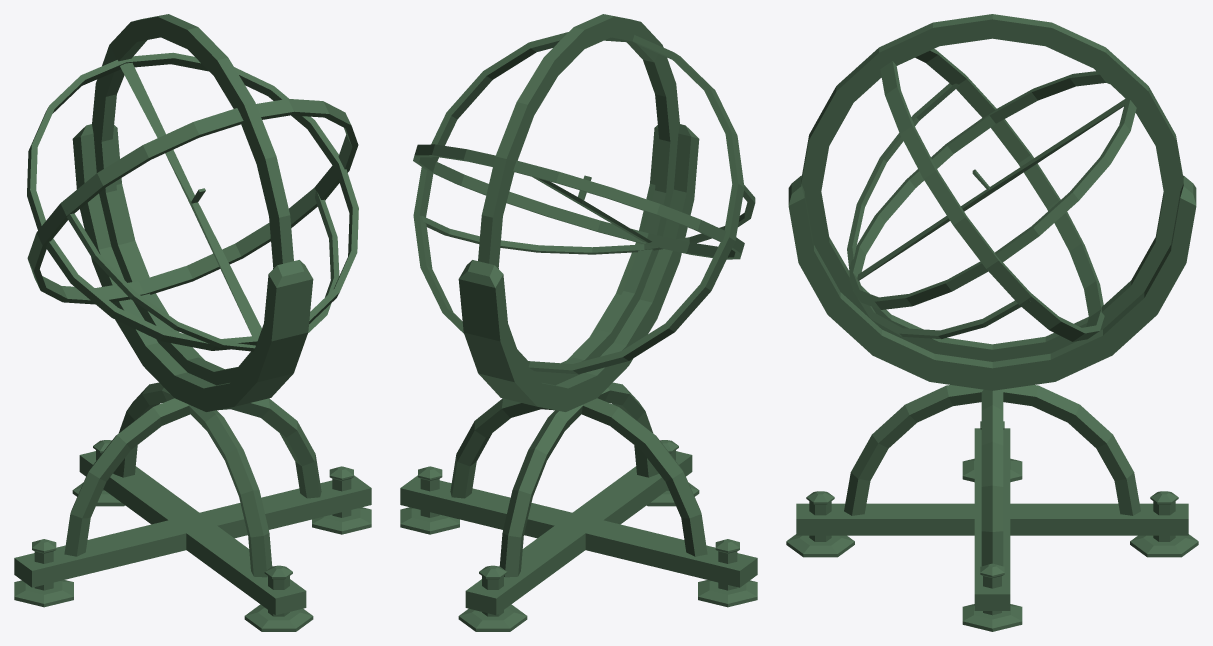
The model's file is 赤道仪.fbx.
3 renders of one model, left to right at view 1: azimuth 30°, elevation 25°; view 2: azimuth 150°, elevation 25°; view 3: azimuth 270°, elevation 25°, orthographic.
Visible parts, largest first — view 1: 柱体.001, 立方体, 柱体, 环体, 柱体.003, 柱体.002, 柱体.004, 脚脚.001, 脚脚.002, 脚脚.003, 脚脚; view 2: 立方体, 柱体.001, 柱体, 环体, 柱体.003, 柱体.002, 柱体.004, 脚脚, 脚脚.002, 脚脚.003, 脚脚.001; view 3: 柱体.001, 柱体, 立方体, 环体, 柱体.003, 柱体.002, 柱体.004, 脚脚, 脚脚.001, 脚脚.003, 脚脚.002.
Boxes of the visible parts, x1,y1,x2,y2 form: 柱体.001: (92,14,293,385); 立方体: (14,451,371,615); 柱体: (72,124,313,411); 环体: (64,382,321,577); 柱体.003: (27,99,358,304); 柱体.002: (27,52,358,350); 柱体.004: (66,191,339,351); 脚脚.001: (244,565,313,631); 脚脚.002: (14,539,73,607); 脚脚.003: (312,466,371,534); 脚脚: (72,440,124,506); 立方体: (400,451,757,615); 柱体.001: (478,14,679,385); 柱体: (458,124,699,411); 环体: (450,382,707,577); 柱体.003: (413,32,744,374); 柱体.002: (413,144,744,259); 柱体.004: (421,182,755,254); 脚脚: (458,565,527,631); 脚脚.002: (698,539,757,607); 脚脚.003: (400,466,459,534); 脚脚.001: (647,440,699,506); 柱体.001: (801,14,1183,361); 柱体: (788,175,1196,390); 立方体: (796,428,1188,610); 环体: (844,385,1140,566); 柱体.003: (880,49,1104,341); 柱体.002: (848,71,1136,309); 柱体.004: (847,83,1030,339); 脚脚: (1130,491,1198,557); 脚脚.001: (786,491,854,557); 脚脚.003: (962,563,1022,631); 脚脚.002: (962,421,1022,482).
Bounding box in the file's own units: 1800 × 2542 × 1800.
